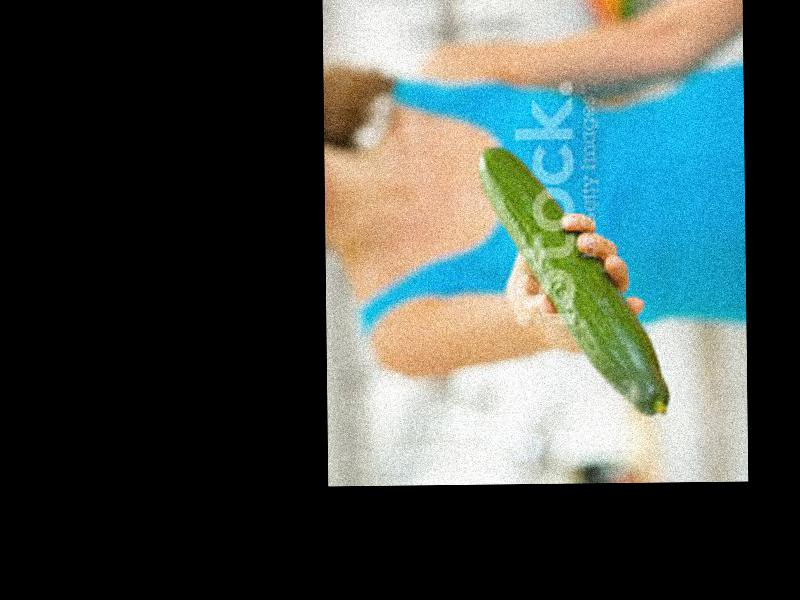Cucumber: (478, 144, 670, 416)
